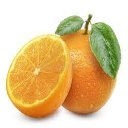orange: (5, 34, 74, 118)
